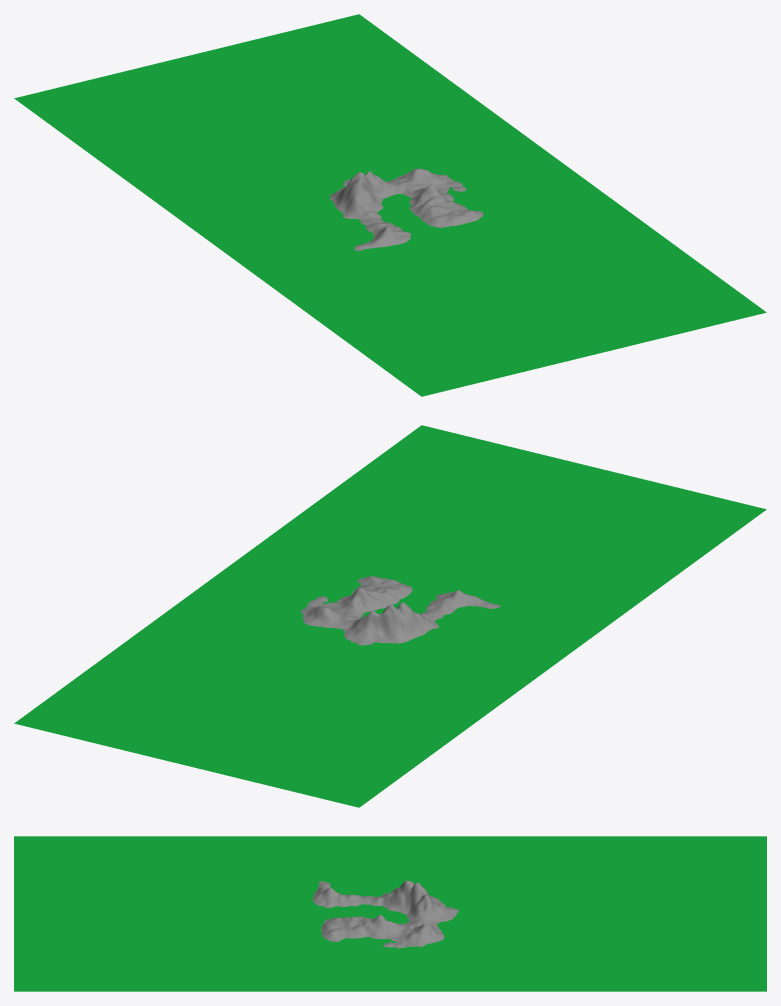
Rendered from BetterBackground.fbx.
3 views of the same model, one above another, from view 1: azimuth 30°, elevation 25°; view 2: azimuth 150°, elevation 25°; view 3: azimuth 270°, elevation 25° (orthographic). The views are drawn at different scales.
Visible parts, largest first — view 1: Plane, Landscape; view 2: Plane, Landscape; view 3: Plane, Landscape.
Boxes of the visible parts, x1,y1,x2,y2 form: Plane: [14, 14, 766, 396]; Landscape: [330, 168, 483, 250]; Plane: [14, 425, 766, 807]; Landscape: [300, 576, 500, 645]; Plane: [14, 836, 766, 991]; Landscape: [313, 880, 458, 948].
Bounding box in the file's own units: 383 × 29.86 × 783.
